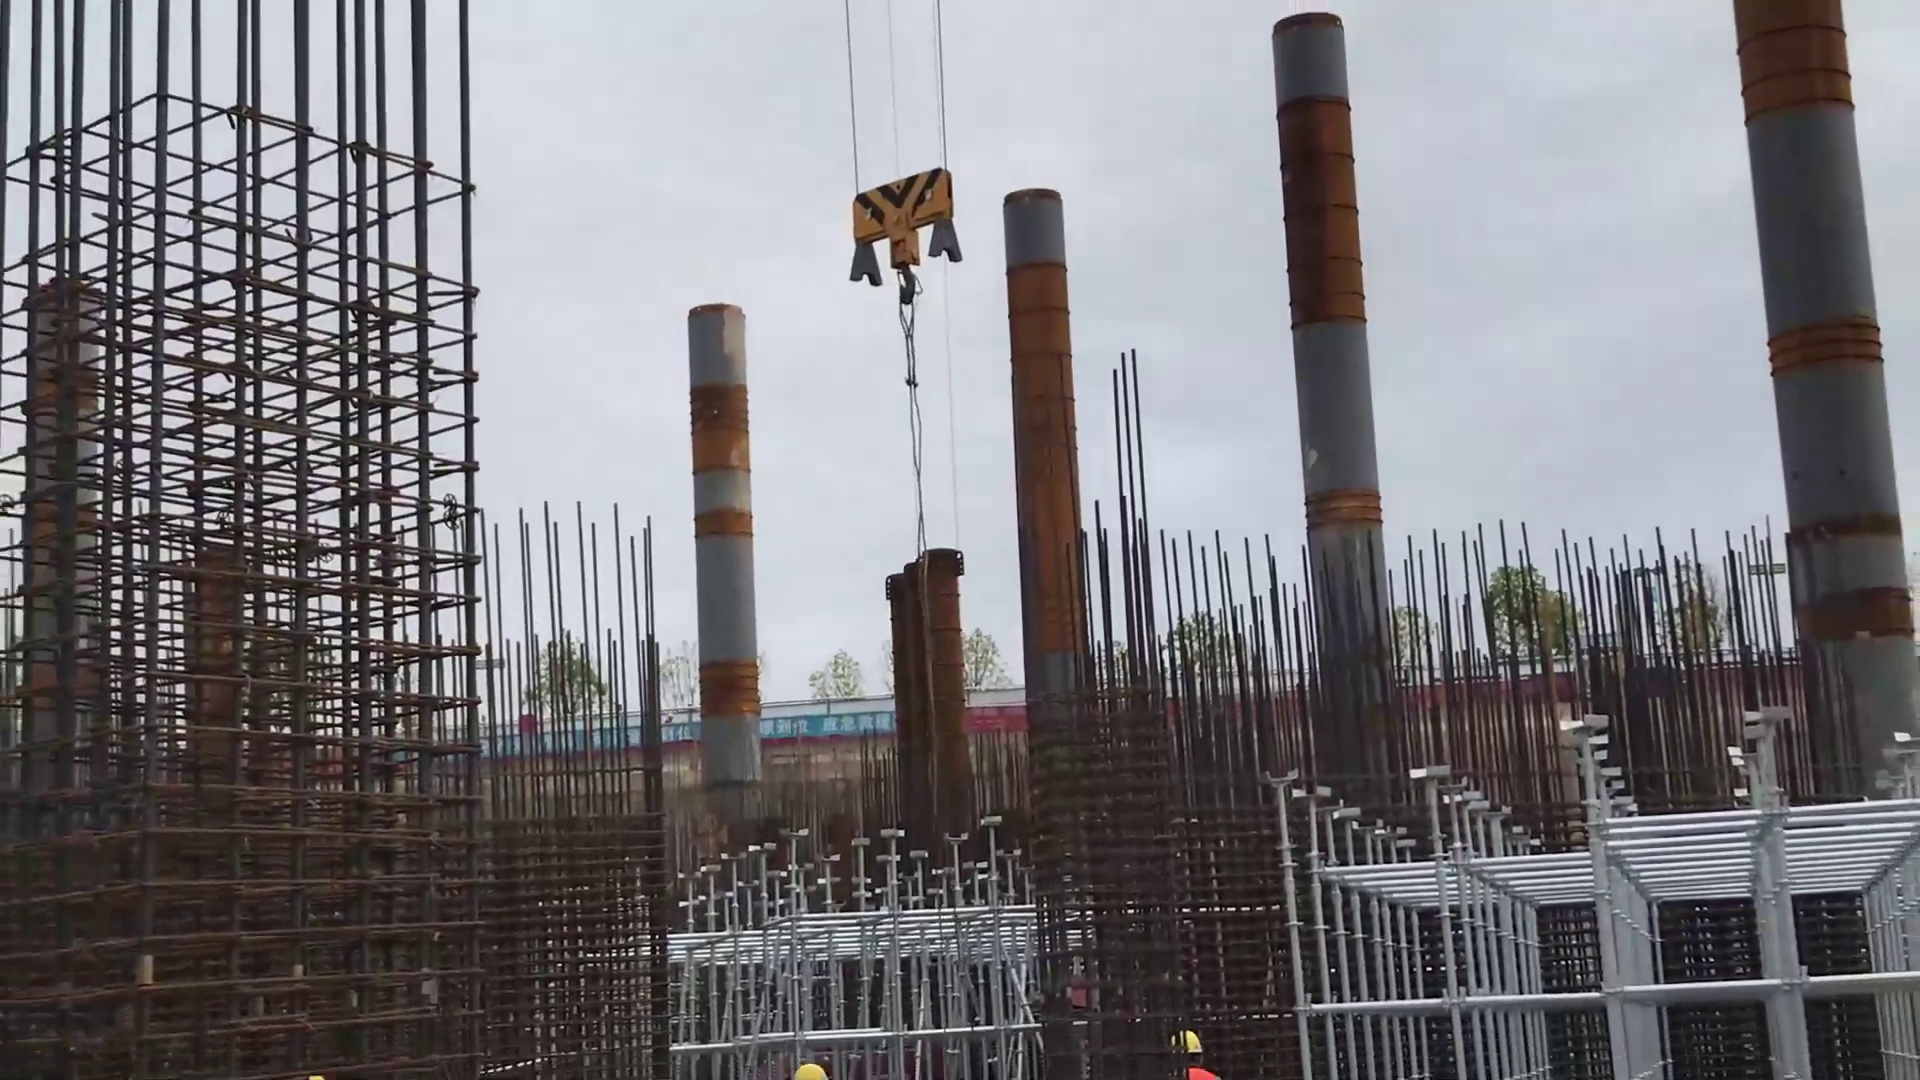helmet: (1155, 1021, 1220, 1060), (775, 1054, 836, 1079)
hook: (840, 166, 993, 306)
